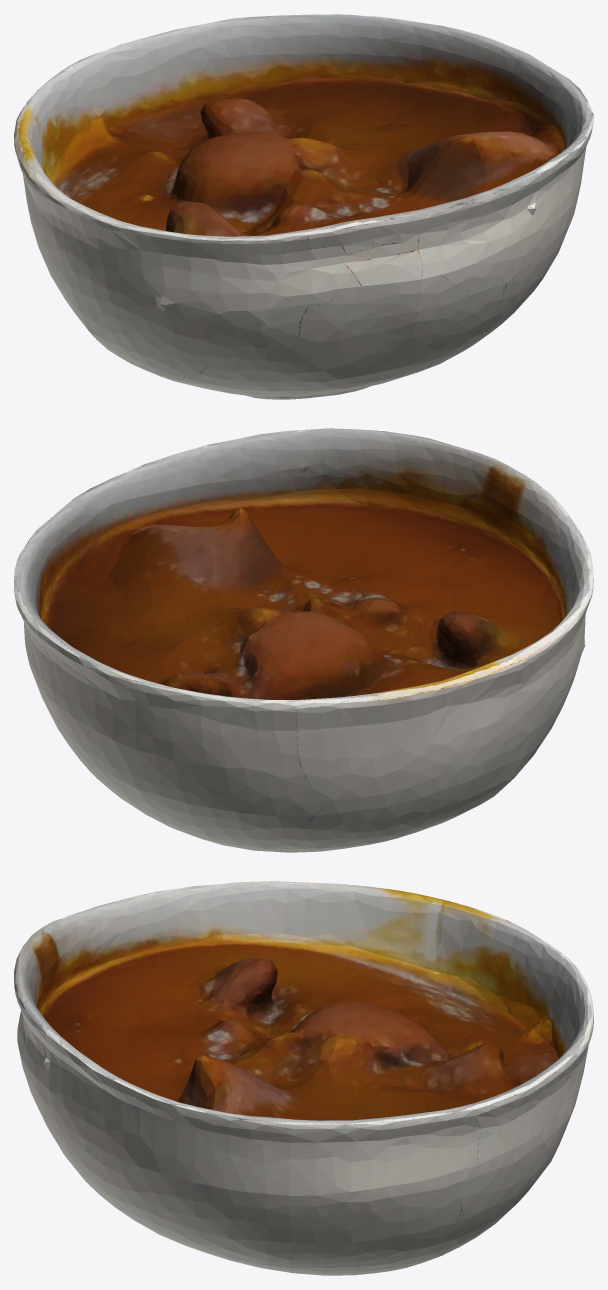
Rendered from curry.glb.
3 renders of one model, top to bottom at view 1: azimuth 30°, elevation 25°; view 2: azimuth 150°, elevation 25°; view 3: azimuth 270°, elevation 25°, orthographic.
Visible parts, largest first — view 1: world; view 2: world; view 3: world.
Boxes of the visible parts, x1,y1,x2,y2 form: world: (14,14,593,399); world: (14,428,593,852); world: (14,881,593,1275).
Size of the model in its own units: 0.4944 by 0.2433 by 0.4893.
1 material, 1 textured.
